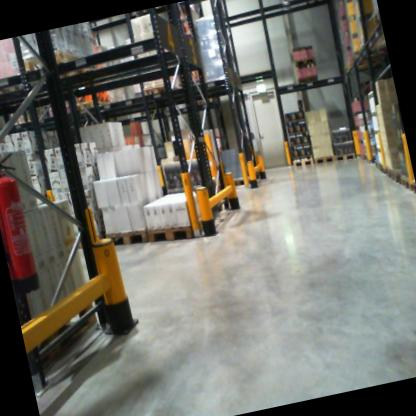pallet: (17, 39, 91, 88), (145, 211, 218, 249), (103, 219, 152, 254), (140, 77, 182, 102), (289, 48, 318, 70), (289, 151, 315, 172), (385, 162, 407, 184), (311, 146, 335, 165), (333, 147, 358, 165), (296, 72, 322, 87), (367, 5, 381, 30), (399, 174, 413, 195), (380, 160, 389, 174), (373, 158, 382, 172), (410, 180, 416, 194)
